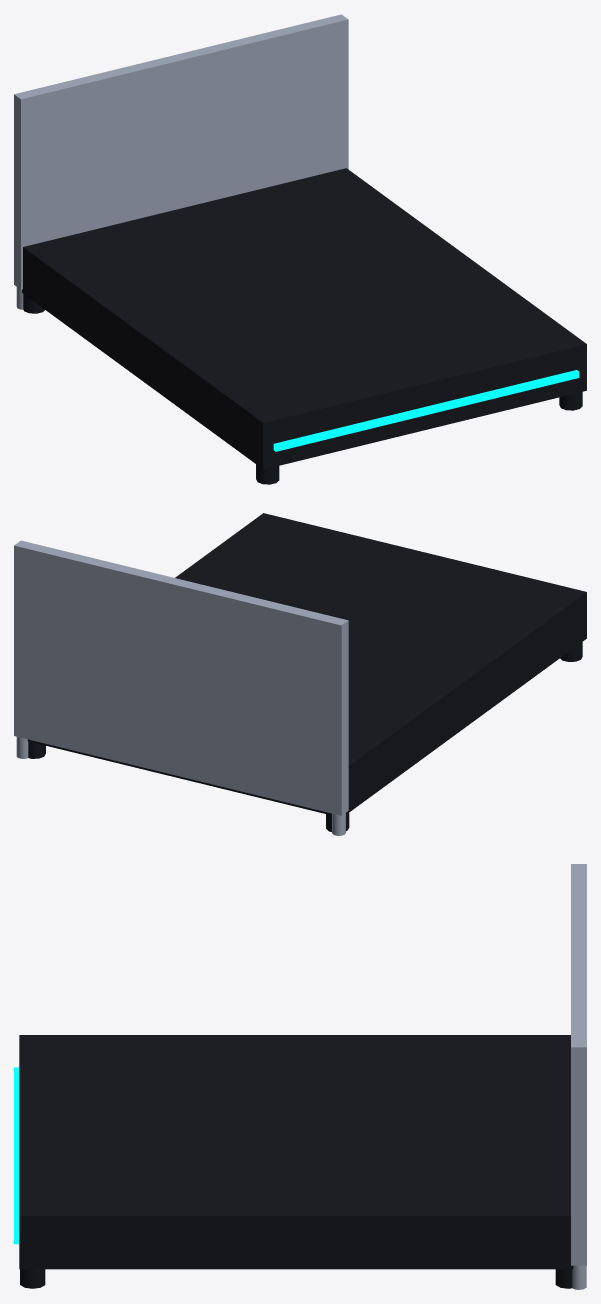
Rendered from bed_cool_0.glb.
3 views of the same model, one above another, from view 1: azimuth 30°, elevation 25°; view 2: azimuth 150°, elevation 25°; view 3: azimuth 270°, elevation 25° (orthographic). The views are drawn at different scales.
Size of the model in its own units: 1.62 by 1 by 2.14.
